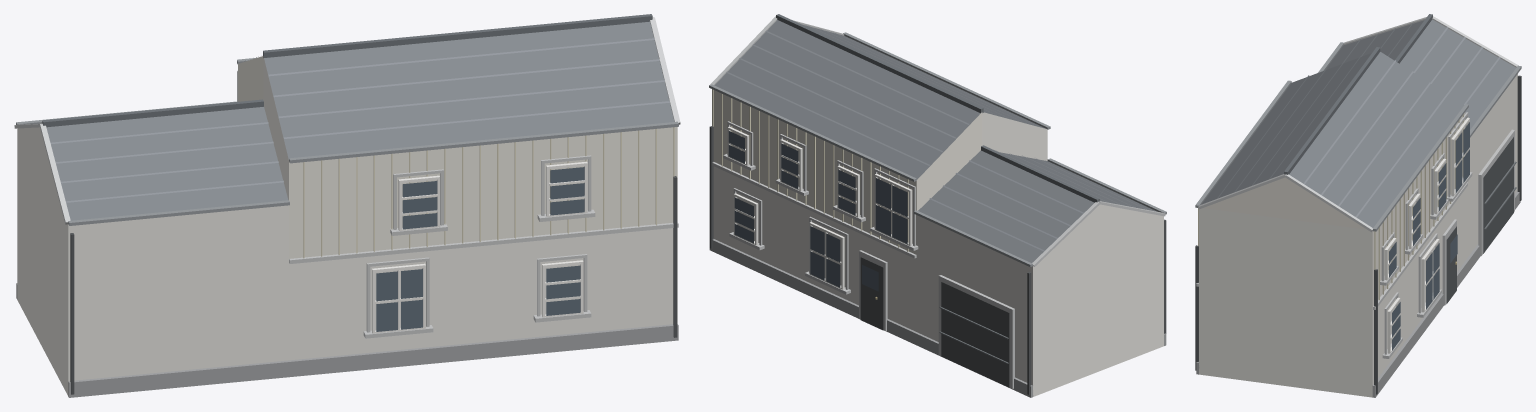
3 renders of one model, left to right at view 1: azimuth 30°, elevation 25°; view 2: azimuth 150°, elevation 25°; view 3: azimuth 270°, elevation 25°, orthographic. The views are drawn at different scales.
Visible parts, largest first — view 1: harl, slate, harl_cream, plinth, stone_band, slate_lt, slate_dk, lead, dress_buff, frame, pipe, window_glass_030 (+3 smaller); view 2: harl, slate, harl_cream, stone_band, door_dark, slate_lt, lead, plinth, frame, slate_dk, dress_buff, pipe (+4 smaller); view 3: harl, slate, harl_cream, stone_band, door_dark, slate_lt, lead, dress_buff, frame, plinth, pipe, slate_dk.
Part boxes in pixels (<box>): harl: <box>17,58,677,395</box>; slate: <box>46,21,674,220</box>; harl_cream: <box>238,56,677,258</box>; plinth: <box>16,283,678,397</box>; stone_band: <box>14,17,680,338</box>; slate_lt: <box>50,38,669,202</box>; slate_dk: <box>42,14,652,127</box>; lead: <box>16,57,678,225</box>; dress_buff: <box>303,127,674,258</box>; frame: <box>372,161,587,333</box>; pipe: <box>70,176,677,394</box>; window_glass_030: <box>401,299,422,329</box>; harl: <box>713,112,1163,396</box>; slate: <box>714,20,1156,262</box>; harl_cream: <box>712,89,982,254</box>; stone_band: <box>710,16,1165,388</box>; door_dark: <box>860,257,1009,387</box>; slate_lt: <box>726,25,1147,251</box>; lead: <box>709,32,1166,266</box>; plinth: <box>709,239,1166,397</box>; frame: <box>727,126,912,289</box>; slate_dk: <box>776,14,1099,202</box>; dress_buff: <box>712,89,908,251</box>; pipe: <box>709,126,1166,394</box>; harl: <box>1199,74,1517,397</box>; slate: <box>1201,19,1515,227</box>; harl_cream: <box>1204,112,1465,307</box>; stone_band: <box>1196,16,1518,358</box>; door_dark: <box>1446,137,1513,303</box>; slate_lt: <box>1217,22,1500,217</box>; lead: <box>1195,42,1521,231</box>; dress_buff: <box>1198,114,1463,300</box>; frame: <box>1384,117,1469,353</box>; plinth: <box>1196,191,1520,397</box>; pipe: <box>1195,75,1521,394</box>; slate_dk: <box>1284,14,1432,174</box>.
Bounding box in the file's own units: 15.99 × 7.24 × 10.
